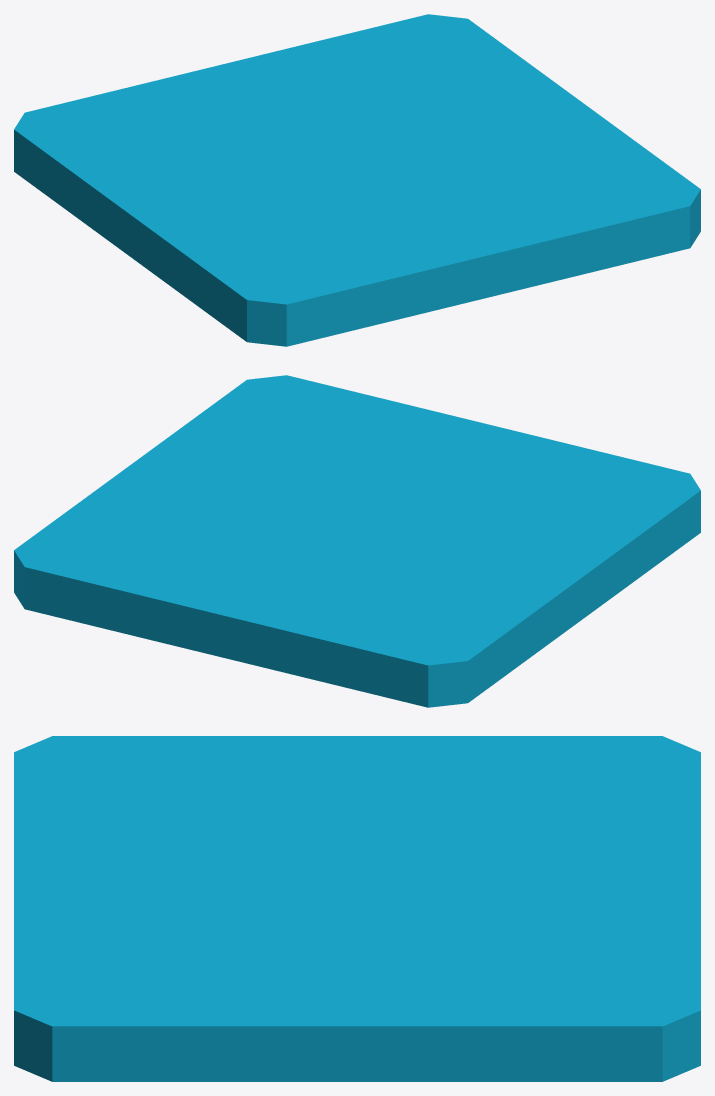
The model's file is Ceiling1.fbx.
The picture shows the model from 3 angles, top to bottom: view 1: azimuth 30°, elevation 25°; view 2: azimuth 150°, elevation 25°; view 3: azimuth 270°, elevation 25°; orthographic projection. The views are drawn at different scales.
Parts seen in each view (by area): view 1: roof_square_4; view 2: roof_square_4; view 3: roof_square_4.
Boxes of the visible parts, x1=… form: roof_square_4: x1=14, y1=14, x2=700, y2=346; roof_square_4: x1=14, y1=375, x2=700, y2=707; roof_square_4: x1=14, y1=736, x2=700, y2=1081.
Bounding box in the file's own units: 11.25 × 1 × 11.25.
